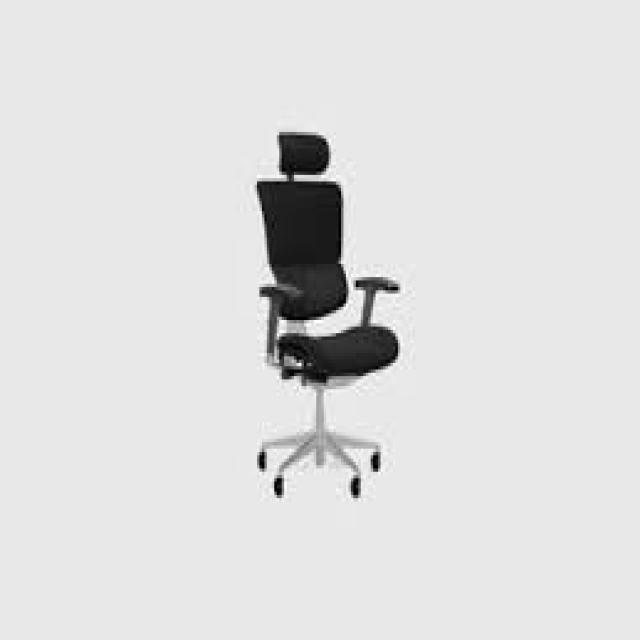chair: (198, 93, 441, 567)
